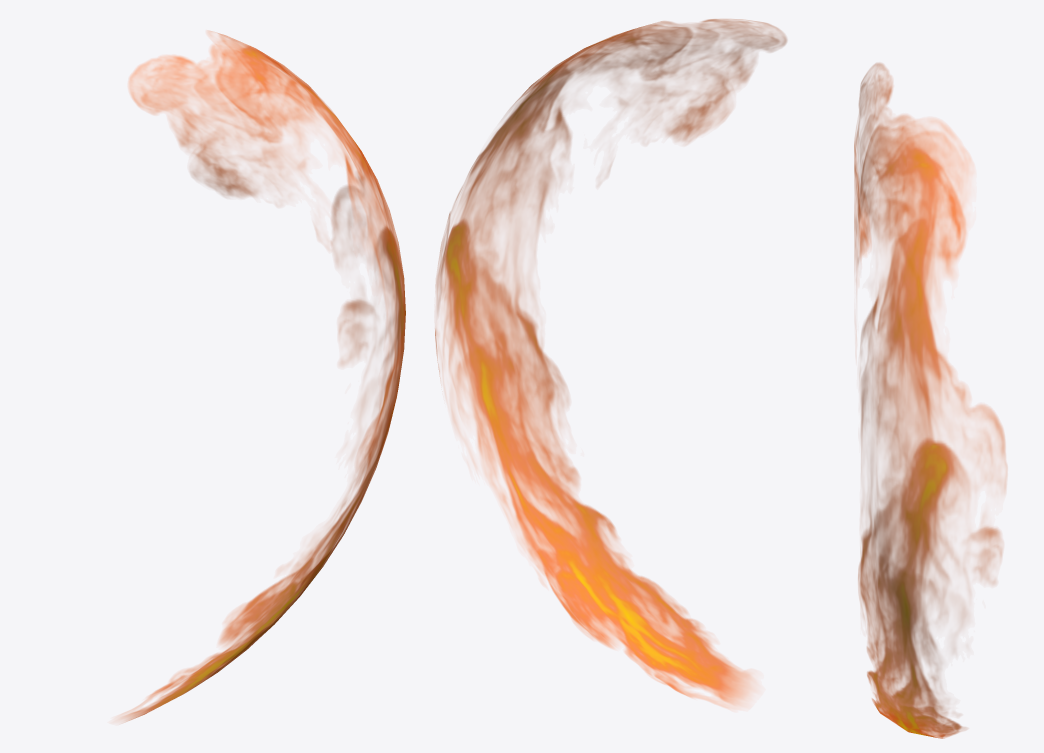
Rendered from flare.glb.
3 views of the same model, side by side, from view 1: azimuth 30°, elevation 25°; view 2: azimuth 150°, elevation 25°; view 3: azimuth 270°, elevation 25° (orthographic).
Visible parts, largest first — view 1: Torus; view 2: Torus; view 3: Torus.
Part boxes in pixels (x1=…): Torus: x1=119, y1=31, x2=405, y2=721; Torus: x1=435, y1=19, x2=786, y2=707; Torus: x1=854, y1=63, x2=1006, y2=738.
Size of the model in its own units: 0.4729 by 0.9458 by 0.2183.
Materials: 1 (1 with a texture image).
